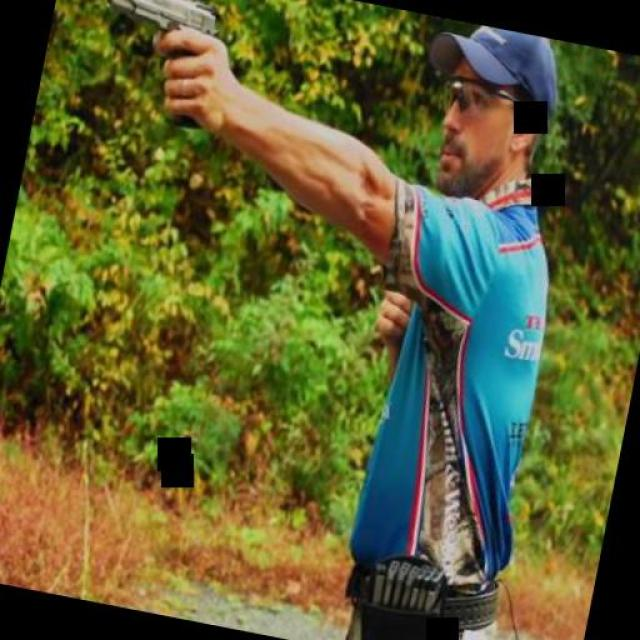gun: (79, 0, 232, 112)
